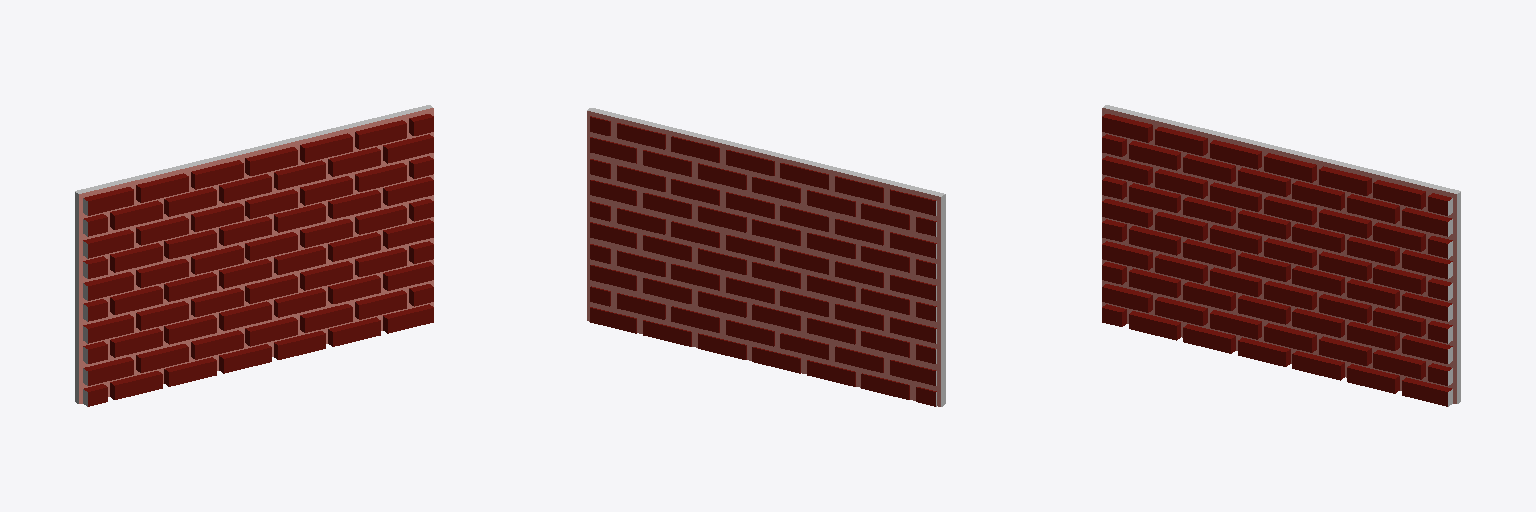
3 renders of one model, left to right at view 1: azimuth 30°, elevation 25°; view 2: azimuth 150°, elevation 25°; view 3: azimuth 330°, elevation 25°, orthographic.
Parts seen in each view (by area): view 1: Cube, Plane; view 2: Cube, Plane; view 3: Cube, Plane.
Boxes of the visible parts, box(x1,y1,x2,y2) form: Cube: box(83, 114, 433, 406); Plane: box(75, 105, 433, 403); Cube: box(590, 116, 936, 406); Plane: box(587, 108, 945, 406); Cube: box(1102, 114, 1452, 406); Plane: box(1102, 105, 1460, 403).
Size of the model in its own units: 16.9 by 9.58 by 0.8192.
2 materials, 1 textured.